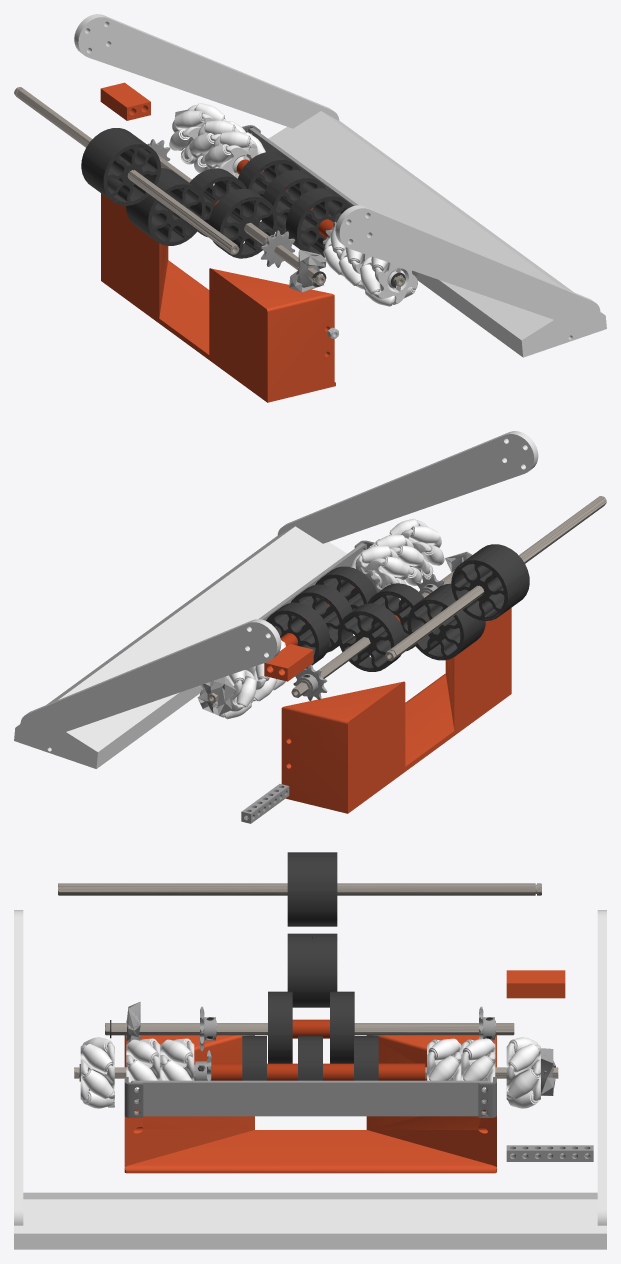
The model's file is intake.glb.
The picture shows the model from 3 angles, top to bottom: view 1: azimuth 30°, elevation 25°; view 2: azimuth 150°, elevation 25°; view 3: azimuth 270°, elevation 25°; orthographic projection. The views are drawn at different scales.
Visible parts, largest first — view 1: part-63, part-26, part-27, part-82, part-178, part-45, part-148, part-115, part-303, part-4, part-1, part-375 (+7 smaller); view 2: part-63, part-27, part-26, part-2, part-1, part-46, part-148, part-4, part-303, part-115, part-178, part-375 (+7 smaller); view 3: part-63, part-26, part-27, part-317, part-148, part-84, part-2, part-82, part-45, part-178, part-46, part-1 (+15 smaller).
Boxes of the visible parts, box(x1,y1,x2,y2) form: part-63: box(101, 193, 335, 402); part-26: box(74, 14, 471, 226); part-27: box(335, 205, 606, 357); part-82: box(92, 136, 160, 205); part-178: box(209, 188, 277, 258); part-45: box(137, 176, 205, 245); part-148: box(14, 87, 239, 254); part-115: box(286, 188, 350, 257); part-303: box(263, 170, 325, 234); part-4: box(238, 151, 300, 220); part-1: box(189, 168, 246, 237); part-375: box(100, 82, 150, 120); part-63: box(281, 608, 511, 813); part-27: box(147, 431, 538, 640); part-26: box(14, 619, 281, 768); part-2: box(451, 552, 518, 620); part-1: box(337, 603, 404, 671); part-46: box(407, 591, 474, 660); part-148: box(385, 496, 606, 661); part-4: box(266, 602, 329, 668); part-303: box(290, 584, 352, 652); part-115: box(315, 566, 377, 610); part-178: box(367, 583, 423, 651); part-375: box(264, 644, 313, 681); part-63: box(124, 1035, 496, 1173); part-26: box(310, 910, 606, 1249); part-27: box(14, 910, 310, 1249); part-317: box(131, 1080, 490, 1116); part-148: box(58, 883, 541, 895); part-84: box(105, 1023, 514, 1035); part-2: box(312, 852, 337, 926); part-82: box(287, 852, 312, 926); part-45: box(287, 933, 312, 1007); part-178: box(268, 991, 292, 1063); part-46: box(312, 933, 337, 1007); part-1: box(330, 991, 354, 1063).
Bounding box in the file's own units: 0.3171 × 0.175 × 0.3823.
